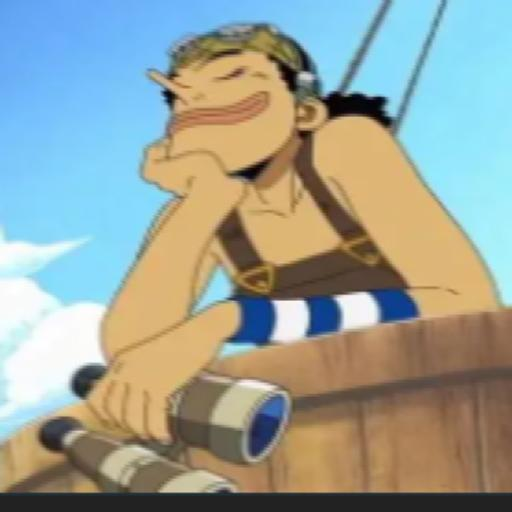Usopp: (31, 20, 512, 454)
